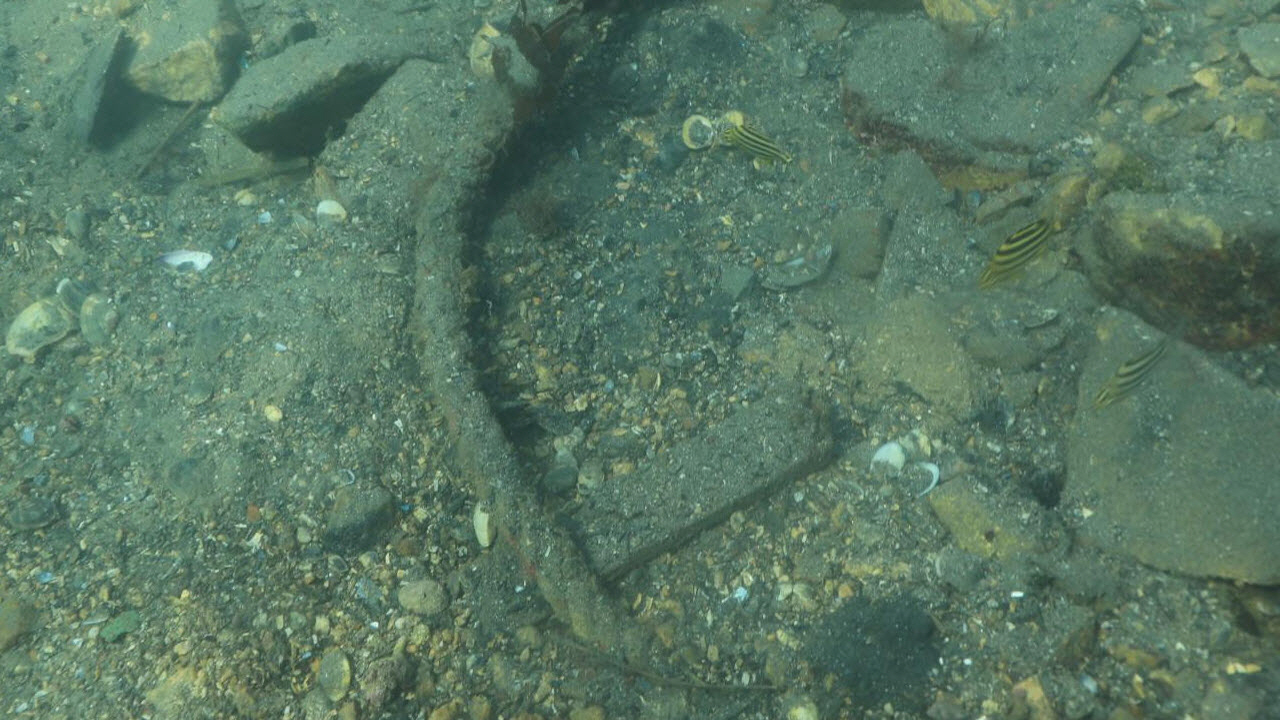rope: (406, 75, 636, 650)
